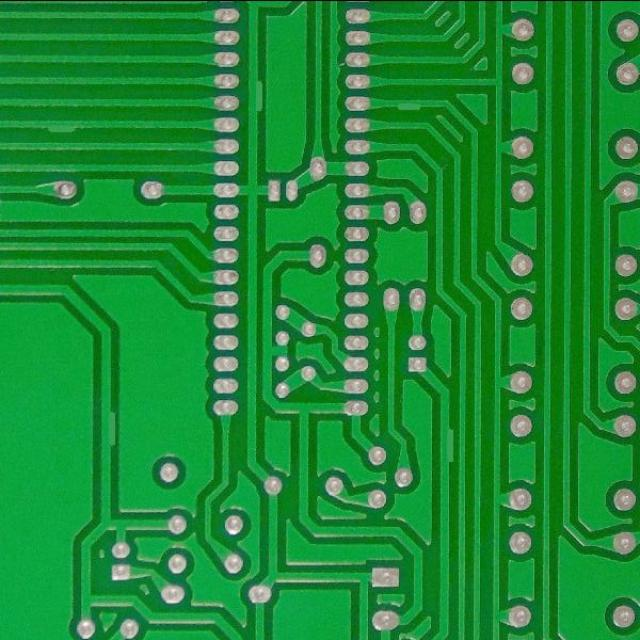Spur: (95, 406, 120, 452), (42, 114, 83, 137), (436, 424, 457, 468), (244, 76, 266, 115), (394, 97, 424, 113)
